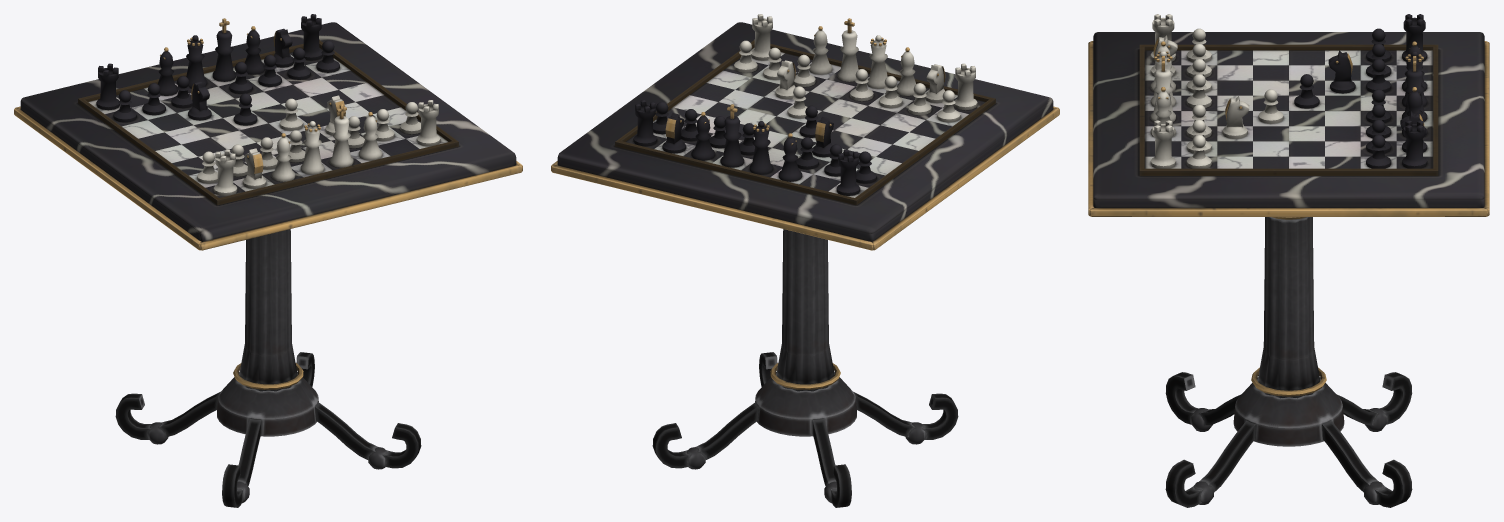
Rendered from ChessTable.fbx.
3 views of the same model, side by side, from view 1: azimuth 30°, elevation 25°; view 2: azimuth 150°, elevation 25°; view 3: azimuth 270°, elevation 25° (orthographic). The views are drawn at different scales.
Parts seen in each view (by area): view 1: ChessTable; view 2: ChessTable; view 3: ChessTable.
Boxes of the visible parts, x1=… form: ChessTable: x1=14, y1=14, x2=522, y2=507; ChessTable: x1=551, y1=14, x2=1059, y2=507; ChessTable: x1=1088, y1=14, x2=1489, y2=507.
Bounding box in the file's own units: 246 × 283 × 246.
